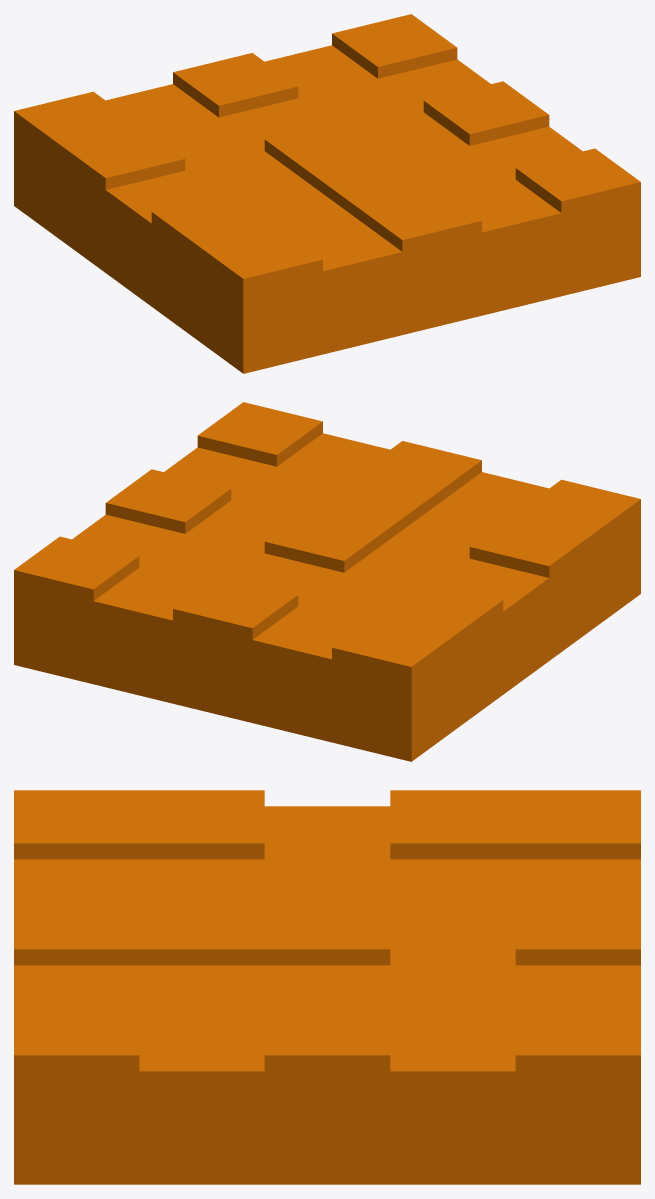
Rendered from Floor Button.fbx.
The picture shows the model from 3 angles, top to bottom: view 1: azimuth 30°, elevation 25°; view 2: azimuth 150°, elevation 25°; view 3: azimuth 270°, elevation 25°; orthographic projection. The views are drawn at different scales.
Visible parts, largest first — view 1: Cube.011; view 2: Cube.011; view 3: Cube.011.
Boxes of the visible parts, box(x1,y1,x2,y2) form: Cube.011: box(14, 14, 640, 373); Cube.011: box(14, 402, 640, 761); Cube.011: box(14, 790, 640, 1184).
Size of the model in its own units: 100 by 22.87 by 100.
